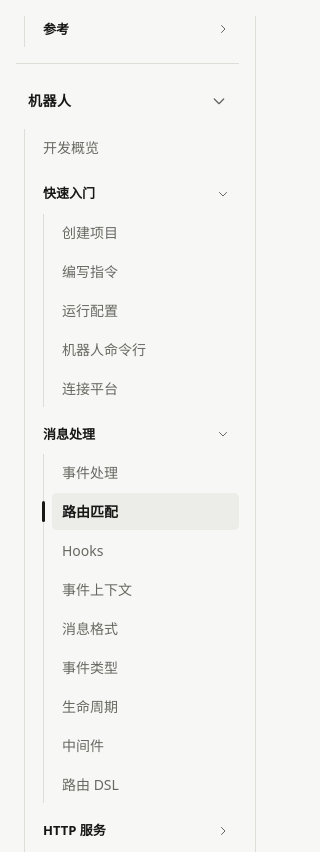
Test: documentation navigation › opens the active branch on a direct visit and still allows manual collapse
(page scrolled)
Click the button "消息处理" at {"x": 136, "y": 434}, box [33,416,239,452]
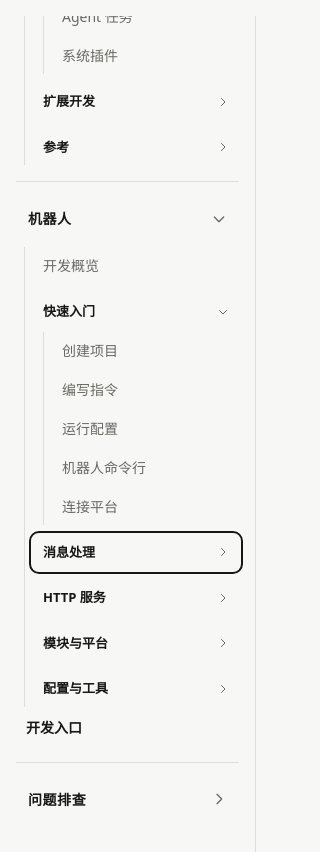
Now the link "路由匹配" is gone
